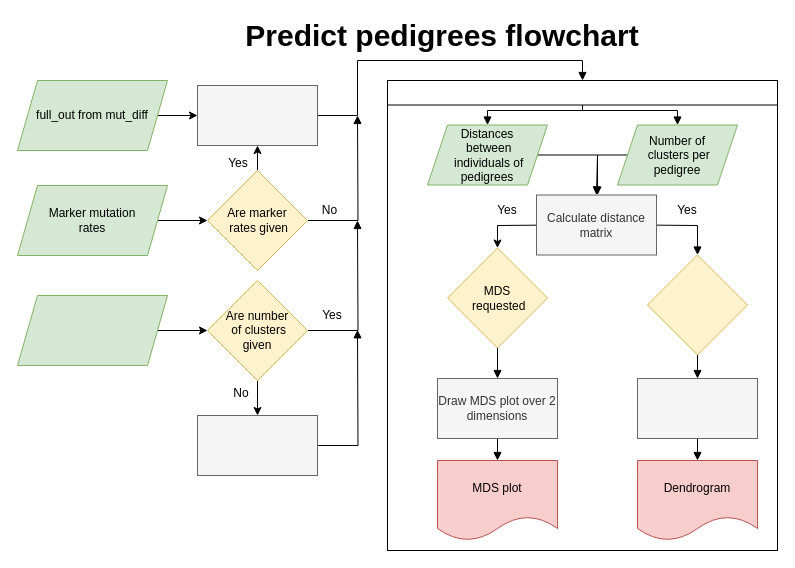
The diagram is 795 pixels wide and 568 high, and some of its shapes have lost their labels. Each missing label, with the centre of its shape:
Dendrogram requested: point 697,304
Determine optimal number of clusters: point 257,445
Draw dendrogram with complete linkage: point 697,408
For each pedigree: point 582,92
Requested numbers of clusters: point 92,330
weigh mutation distances based on marker mutation rates: point 257,115
